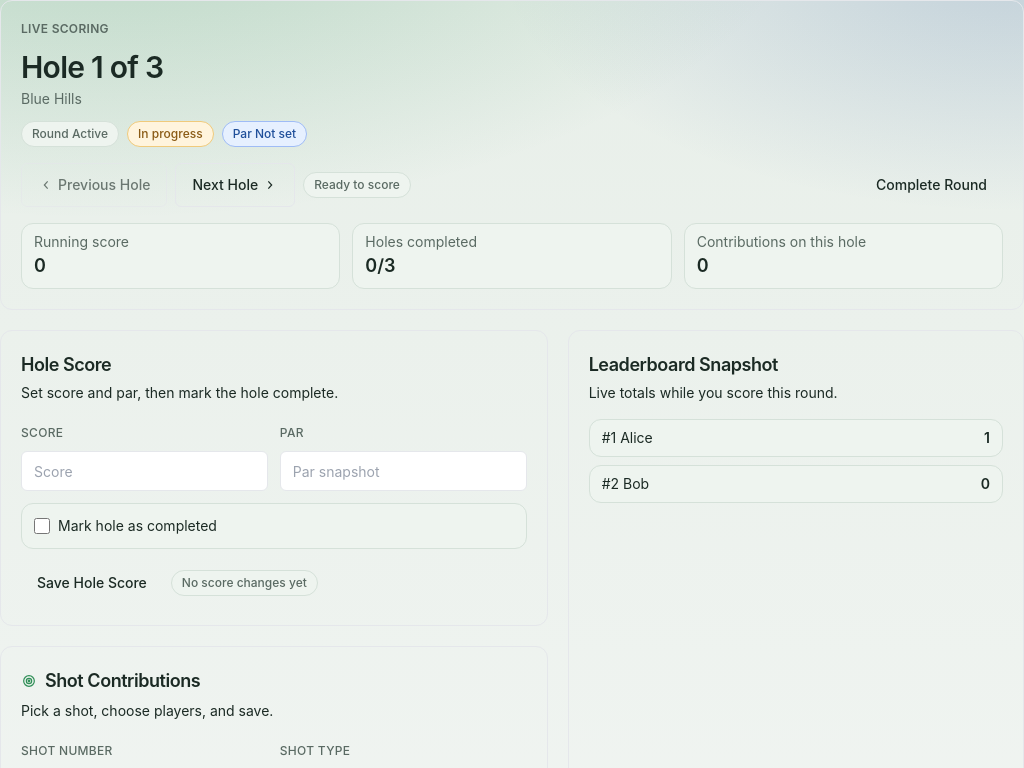
ScoringRoute › resets completed checkbox when navigating to a hole without score state
This screenshot has width=1024, height=768.
Expected: the heading "Hole 1 of 3" is shown, [21, 49, 163, 85]
What coordinates should you click on to do the following:
click the checkbox labelled "Mark hole as completed"
I would click on:
 (42, 526)
Its box is [34, 518, 50, 534].
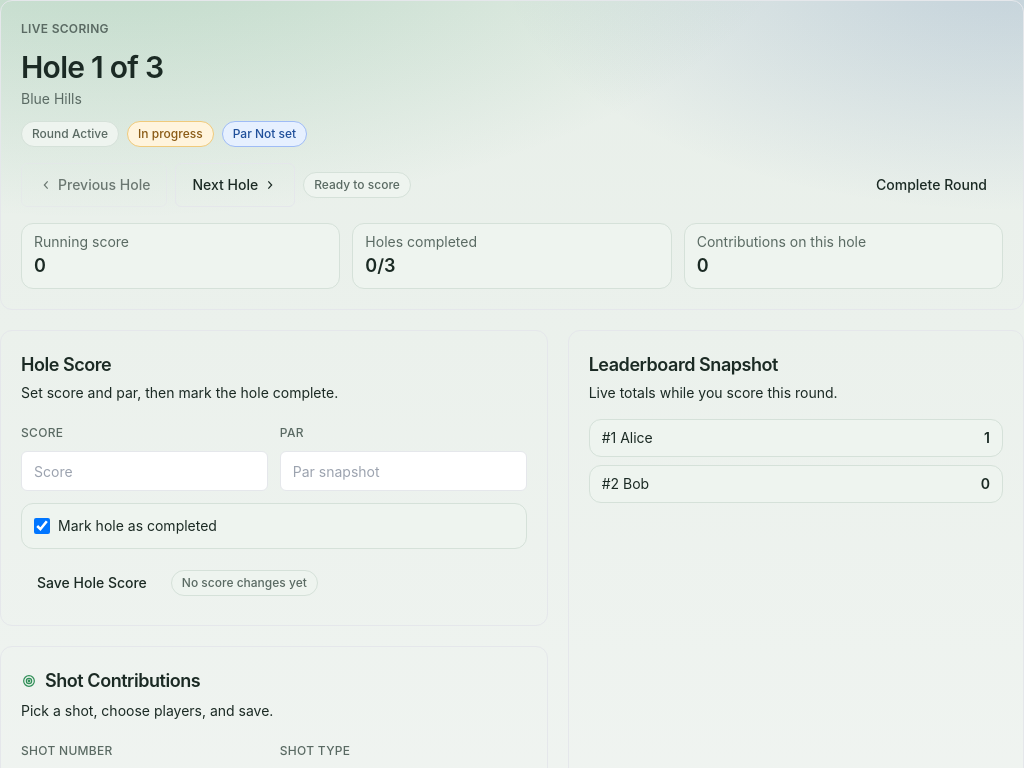
Result: the checkbox labelled "Mark hole as completed" is checked at [34, 518, 50, 534]
What coordinates should you click on to do the following:
click the button "Next Hole"
I would click on:
 (235, 185)
Its box is [176, 163, 295, 207].
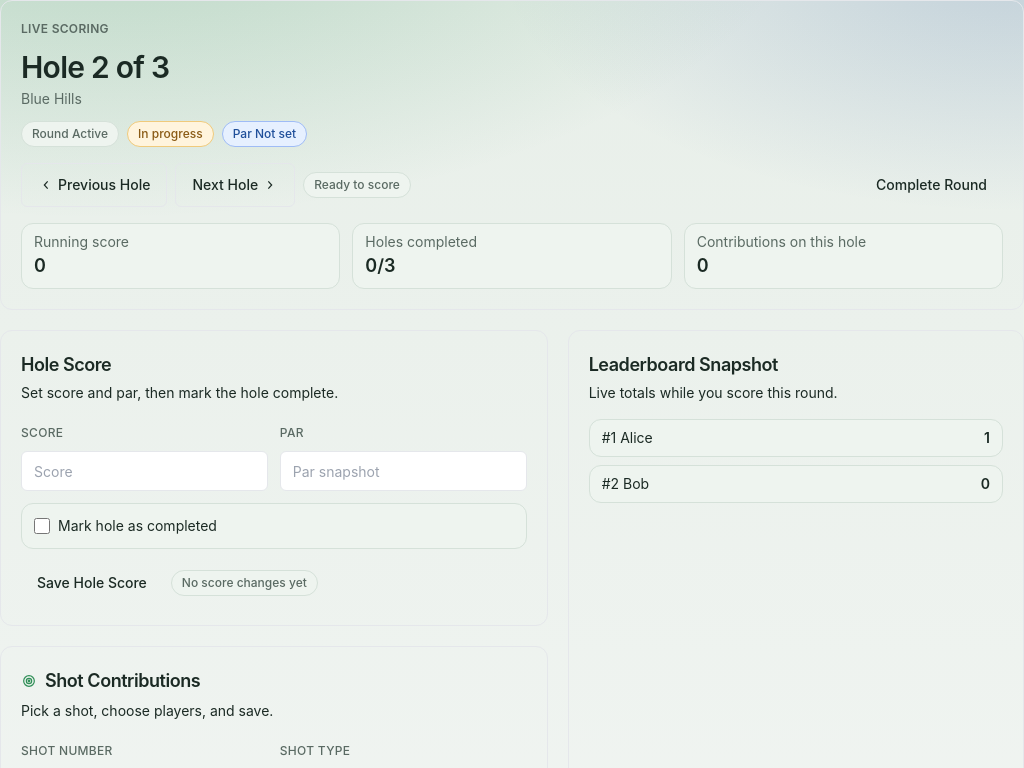
Result: the checkbox labelled "Mark hole as completed" is not checked at [34, 518, 50, 534]
Result: the heading "Hole 2 of 3" is shown at [21, 49, 169, 85]
